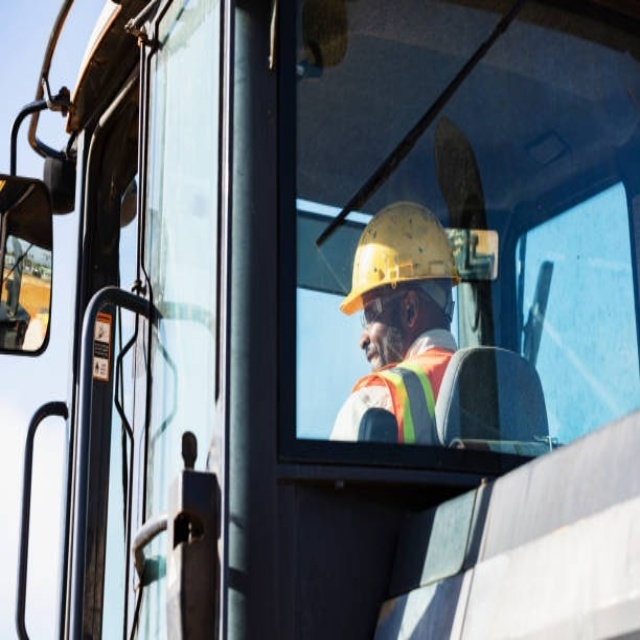Gafas: (361, 282, 409, 328)
Sin_mascara: (362, 345, 385, 372)
